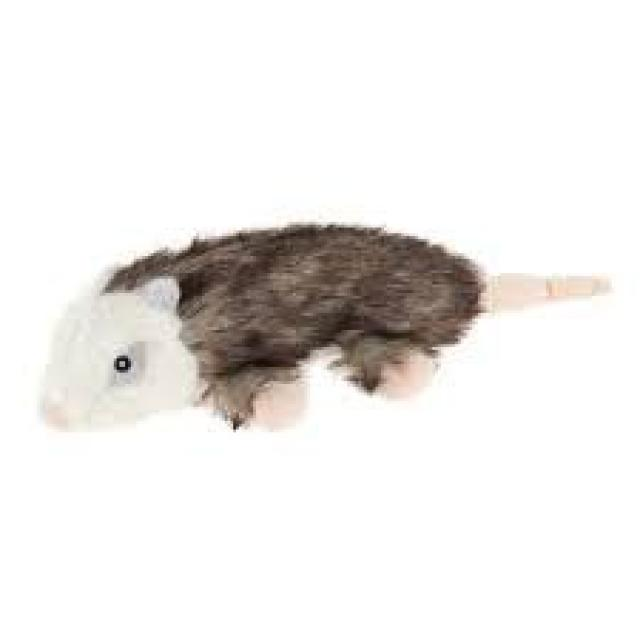Possum: (35, 216, 619, 434)
